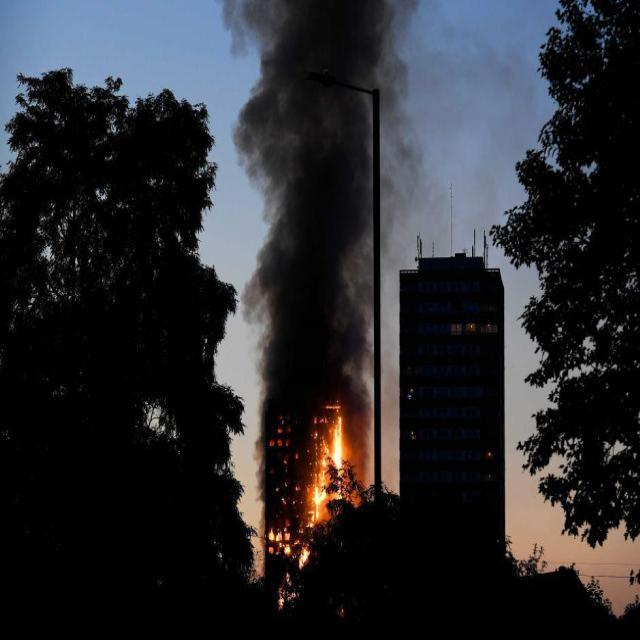Fire: (267, 401, 358, 578)
